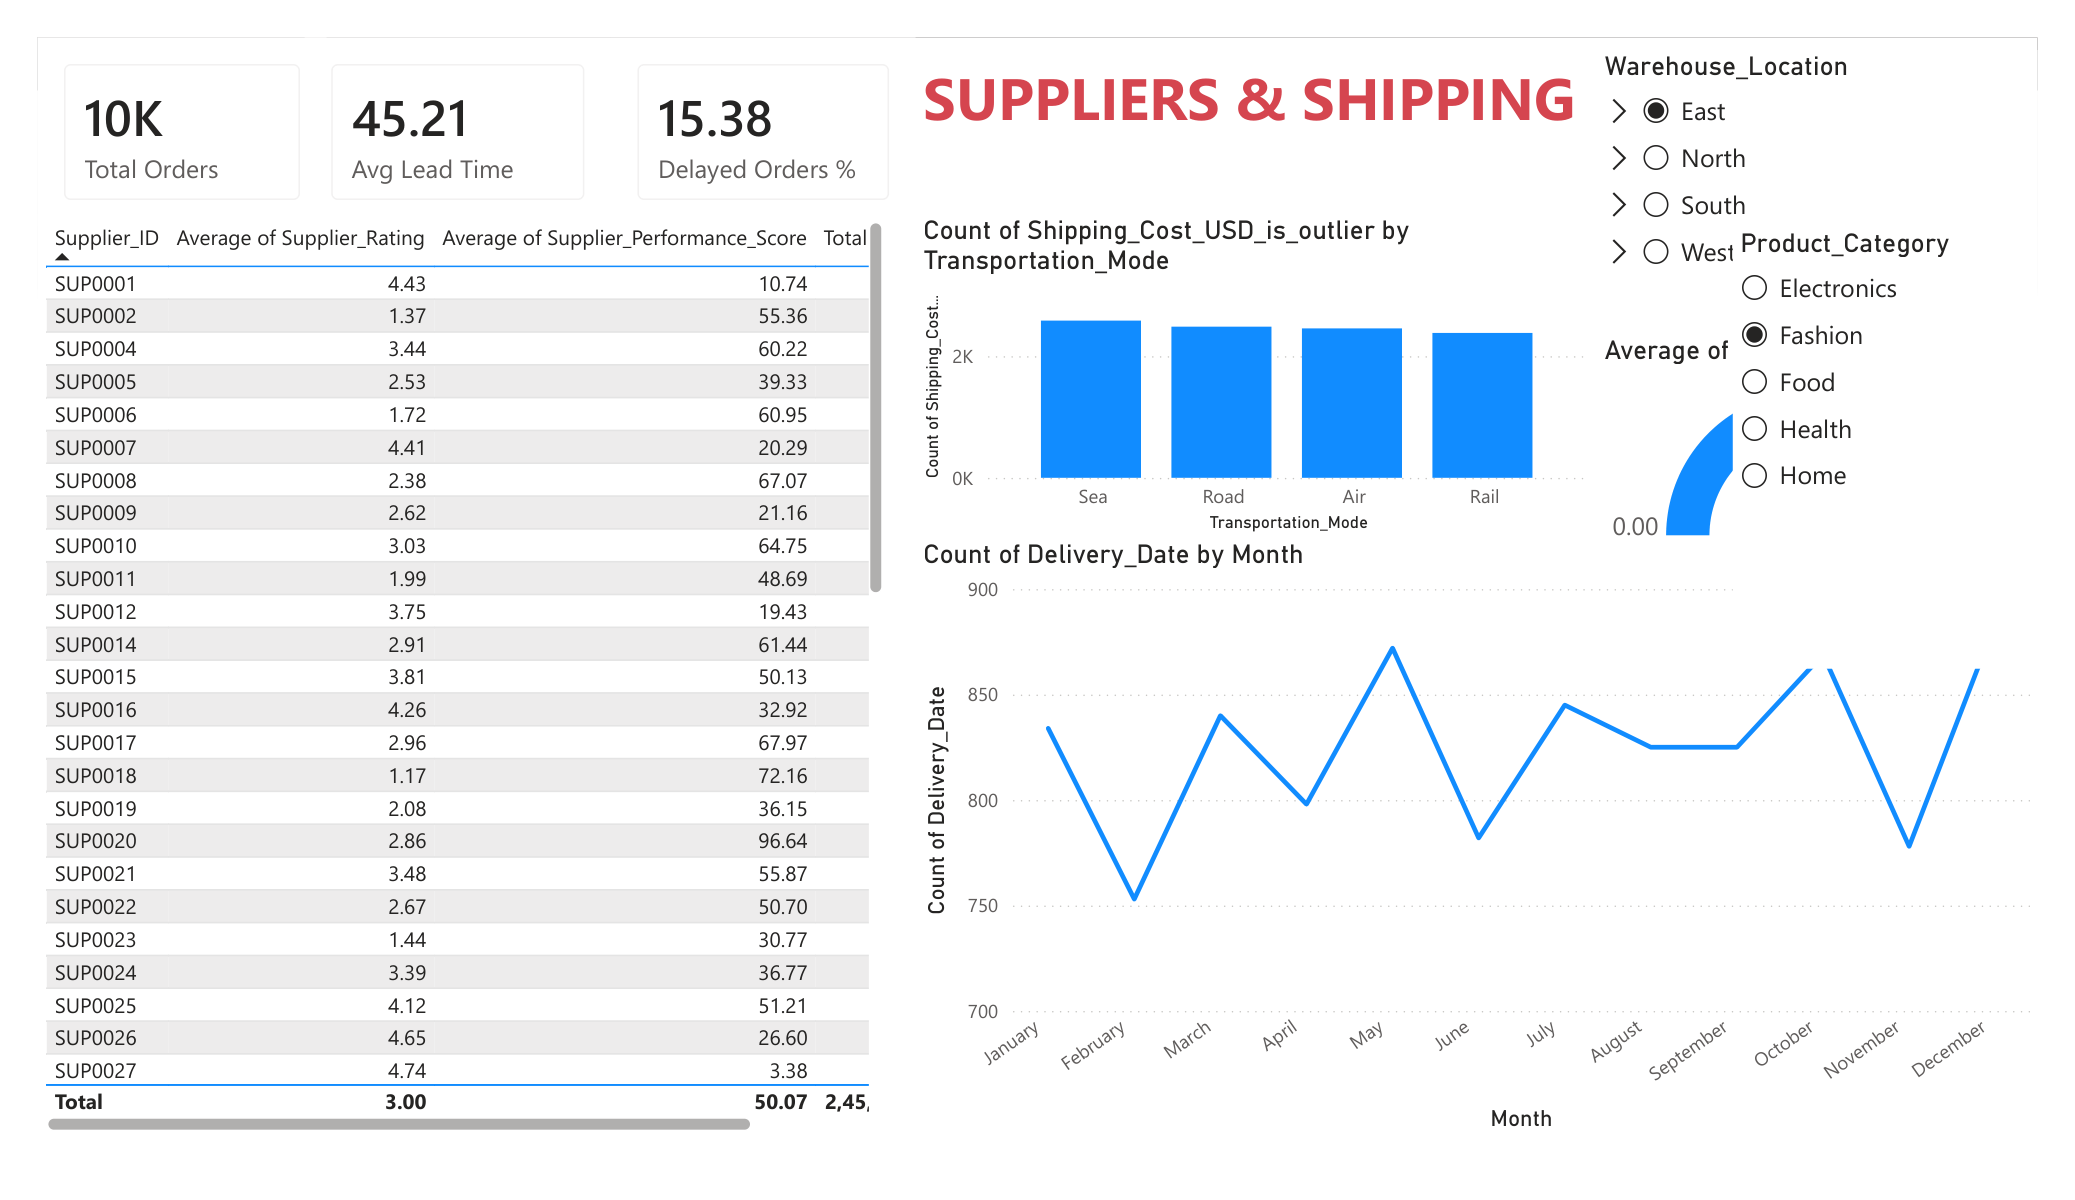

Layout of this report page (visuals, bound fields, positions):
{"tool":"powerbi","page":{"name":"Supplier & Shipping","canvas":[1280,720],"ordinal":2},"visuals":[{"type":"cardVisual","fields":{"Data":["DateTable.Total Orders"]},"box":[0,0,184.6,121.3],"z":0},{"type":"cardVisual","fields":{"Data":["DateTable.Delayed Orders %"]},"box":[366.5,0,195.1,121.3],"z":1000},{"type":"cardVisual","fields":{"Data":["DateTable.Avg Lead Time"]},"box":[171.4,0,195.1,121.3],"z":2000},{"type":"textbox","box":[561.7,7.9,436.4,105.5],"z":3000},{"type":"tableEx","fields":{"Values":["SupplyChain.Supplier_ID","SupplyChain.Supplier_Rating","SupplyChain.Supplier_Performance_Score","DateTable.Total Revenue"]},"box":[0,113.4,545.9,592],"z":4000},{"type":"clusteredColumnChart","fields":{"Category":["SupplyChain.Transportation_Mode"],"Y":["CountNonNull(SupplyChain.Shipping_Cost_USD_is_outlier)"]},"box":[561.7,113.4,436.4,208.3],"z":5000},{"type":"gauge","fields":{"Y":["Avg(SupplyChain.On_Time_Delivery_Rate)"]},"box":[998.1,189.9,282.2,151.6],"z":6000},{"type":"lineChart","fields":{"Category":["DateTable.Date.Variation.Date Hierarchy.Month"],"Y":["CountNonNull(SupplyChain.Delivery_Date)"]},"box":[561.7,320.4,718.6,385],"z":7000},{"type":"listSlicer","fields":{"Values":["SupplyChain.Warehouse_Location","SupplyChain.Transportation_Mode"]},"box":[998.1,7.9,282.2,156.9],"z":8000},{"type":"listSlicer","fields":{"Values":["SupplyChain.Product_Category"]},"box":[1085,121,195,283],"z":8001}]}

Visuals, with their boxes on the page's 1280x720 design canvas (x1, y1, x2, y2). These are canvas units, not pixel positions in the 2075x1200 screenshot, which may show the page scaled, cropped or inside an application window:
cardVisual - DateTable.Total Orders: rect(0, 0, 185, 121)
cardVisual - DateTable.Delayed Orders %: rect(366, 0, 562, 121)
cardVisual - DateTable.Avg Lead Time: rect(171, 0, 366, 121)
textbox: rect(562, 8, 998, 113)
tableEx - SupplyChain.Supplier_ID x SupplyChain.Supplier_Rating: rect(0, 113, 546, 705)
clusteredColumnChart - SupplyChain.Transportation_Mode x CountNonNull(SupplyChain.Shipping_Cost_USD_is_outlier): rect(562, 113, 998, 322)
gauge - Avg(SupplyChain.On_Time_Delivery_Rate): rect(998, 190, 1280, 342)
lineChart - DateTable.Date.Variation.Date Hierarchy.Month x CountNonNull(SupplyChain.Delivery_Date): rect(562, 320, 1280, 705)
listSlicer - SupplyChain.Warehouse_Location x SupplyChain.Transportation_Mode: rect(998, 8, 1280, 165)
listSlicer - SupplyChain.Product_Category: rect(1085, 121, 1280, 404)
